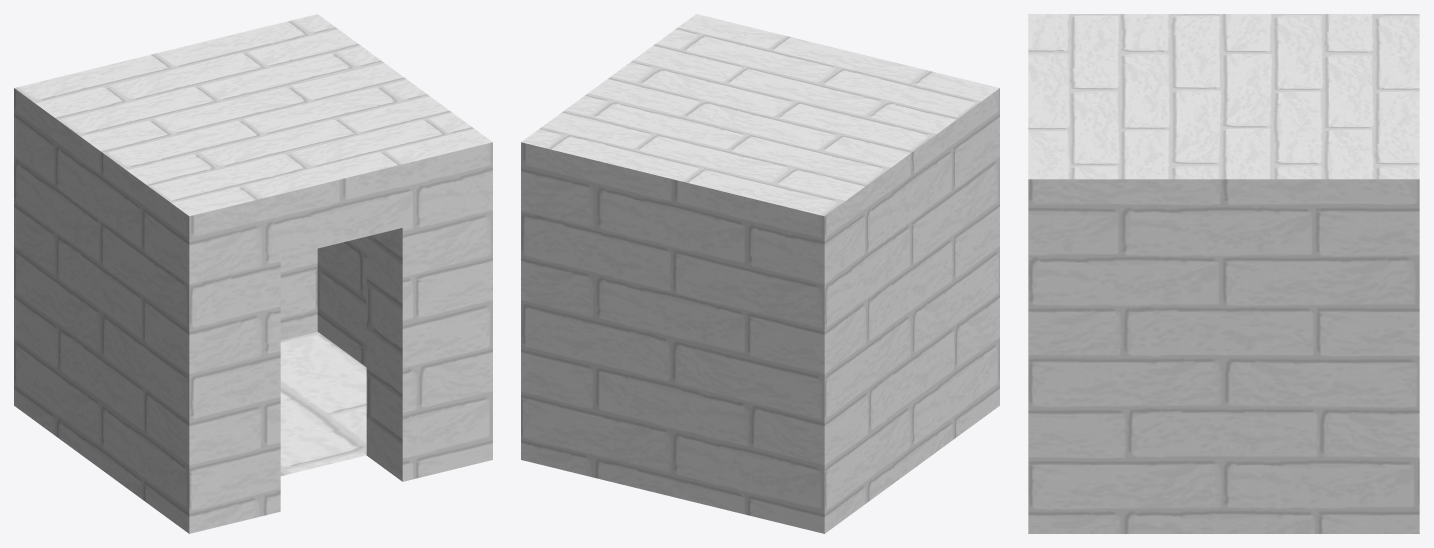
File: castle_type_n.gltf
The picture shows the model from 3 angles, left to right: view 1: azimuth 30°, elevation 25°; view 2: azimuth 150°, elevation 25°; view 3: azimuth 270°, elevation 25°; orthographic projection. The views are drawn at different scales.
Parts seen in each view (by area): view 1: Type_N; view 2: Type_N; view 3: Type_N.
Boxes of the visible parts, x1,y1,x2,y2 form: Type_N: (14, 14, 492, 533); Type_N: (521, 14, 999, 533); Type_N: (1028, 14, 1419, 533).
Bounding box in the file's own units: 1 × 1 × 1.
Materials: 1 (1 with a texture image).
